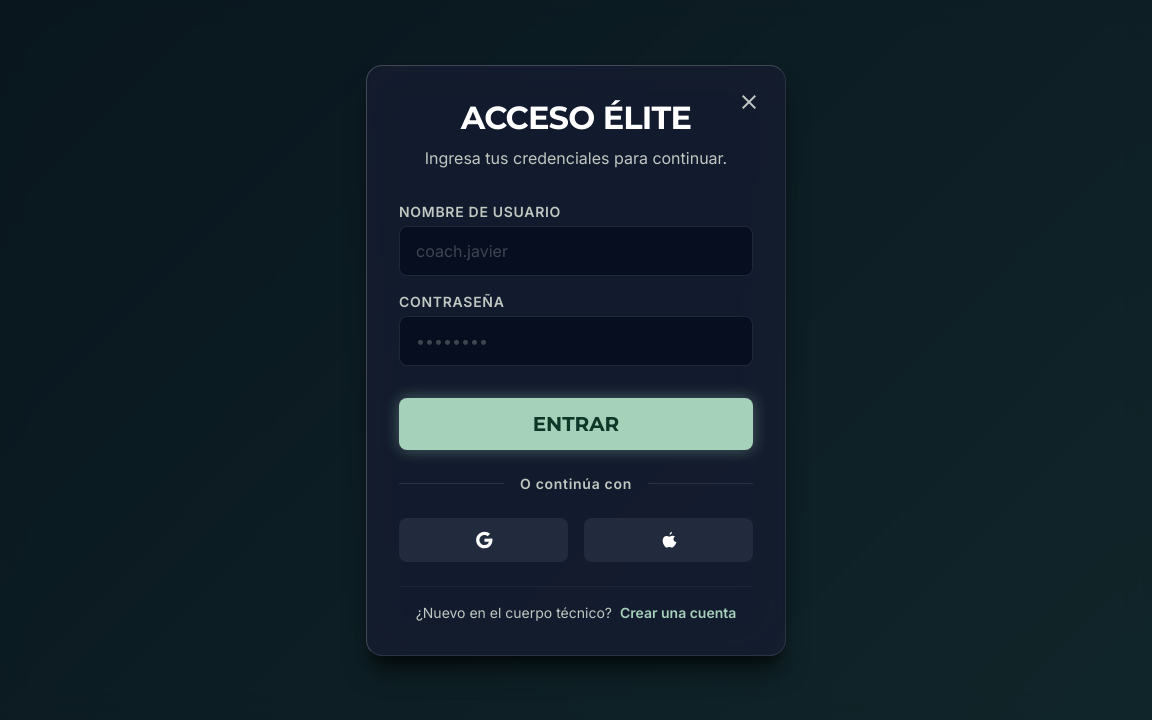
Test case: LoginModal › muestra el error del servidor y no cierra
The width and height of the screenshot is (1152, 720).
Step 1. Type "coach" into the field with placeholder "coach.javier" → (576, 250), box [399,226,753,276]
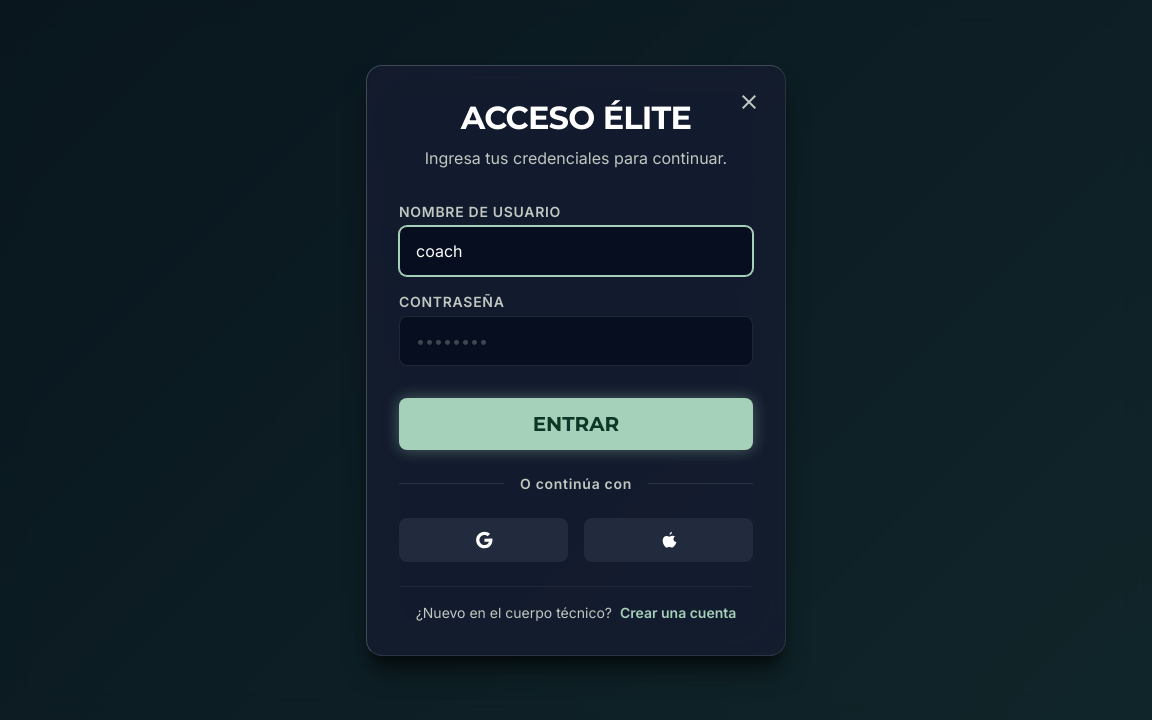
Step 2. Type "malo" into the password field with placeholder "••••••••" → (576, 340), box [399,316,753,366]
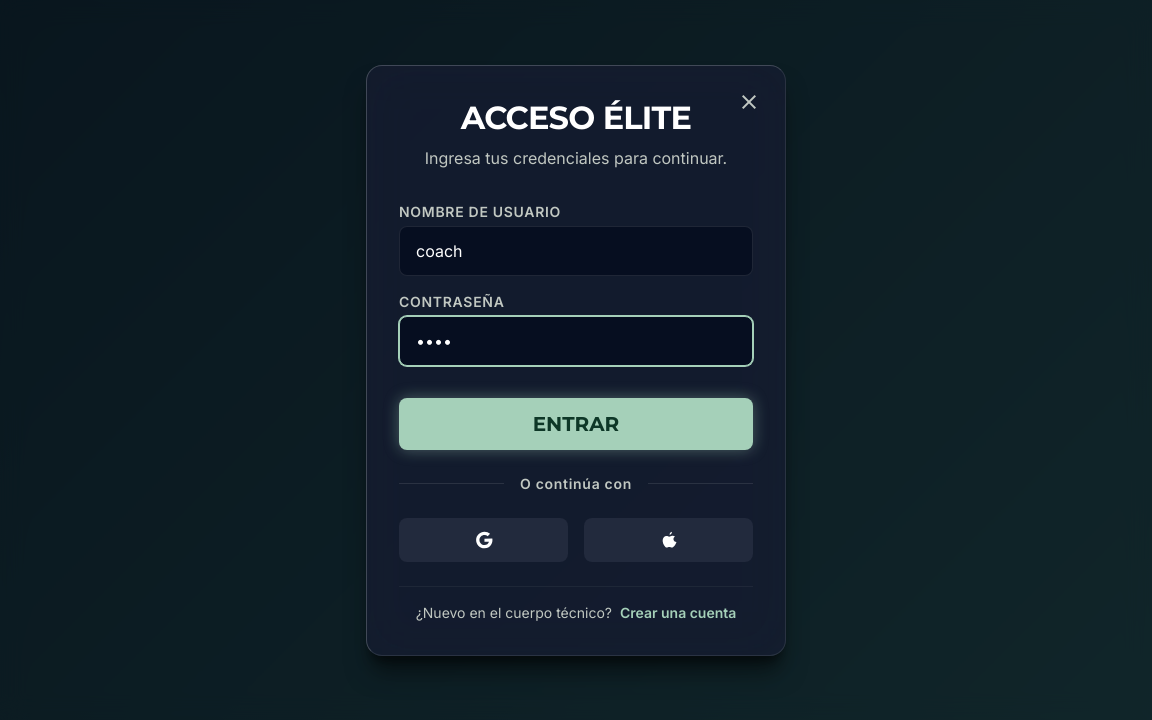
Step 3. Click the button "Entrar" → (576, 424), box [399,398,753,450]
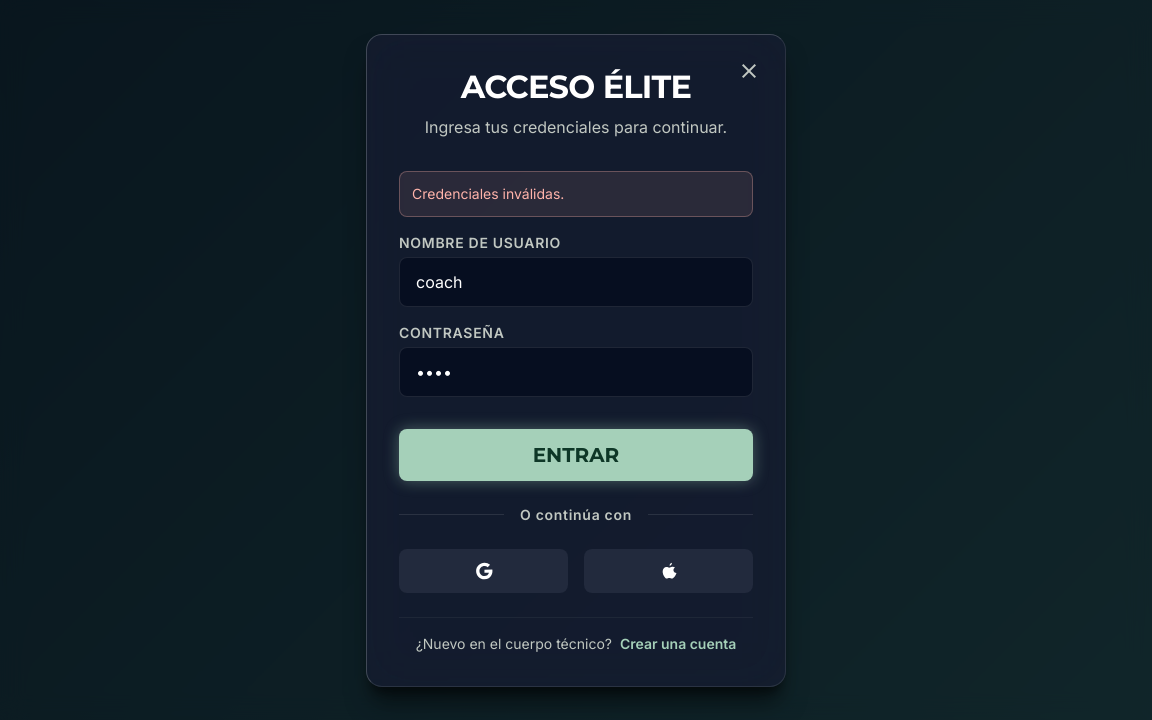
Expected: the text "Credenciales inválidas." is shown, [399,170,753,216]
